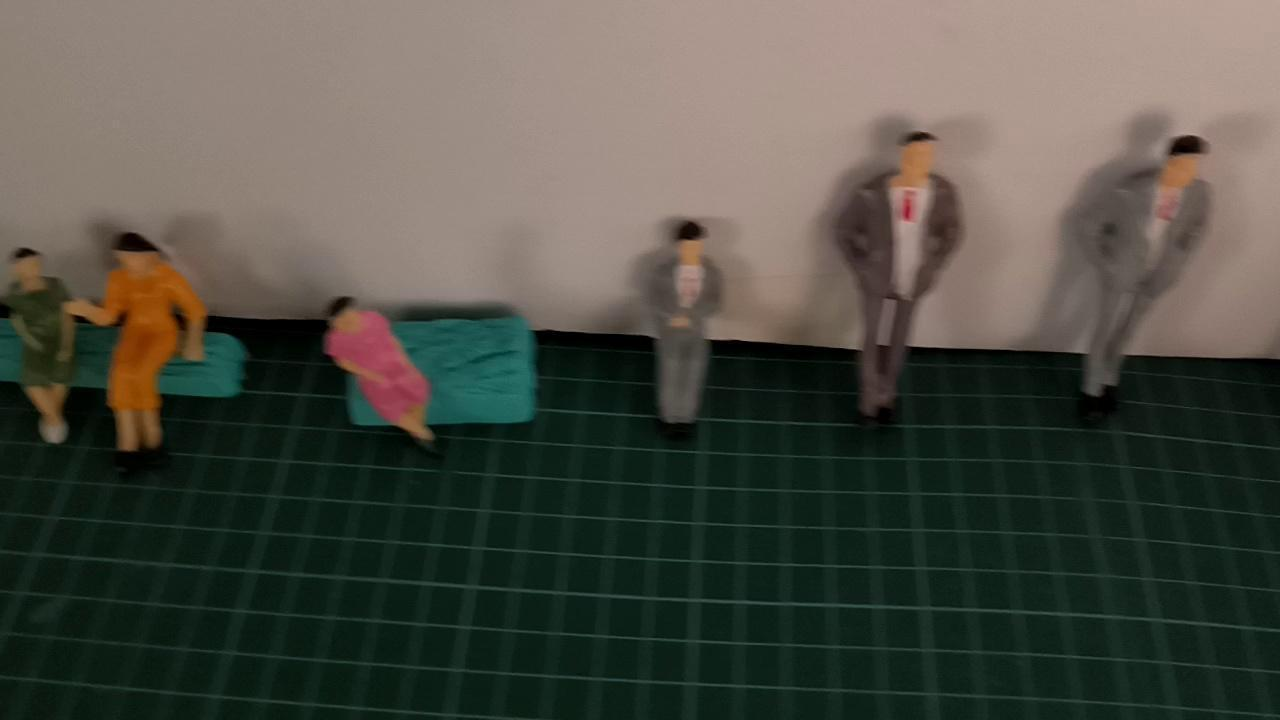human: (818, 115, 972, 445), (1064, 123, 1225, 432), (65, 220, 213, 471), (308, 287, 457, 465), (633, 217, 739, 454), (0, 238, 85, 451)
